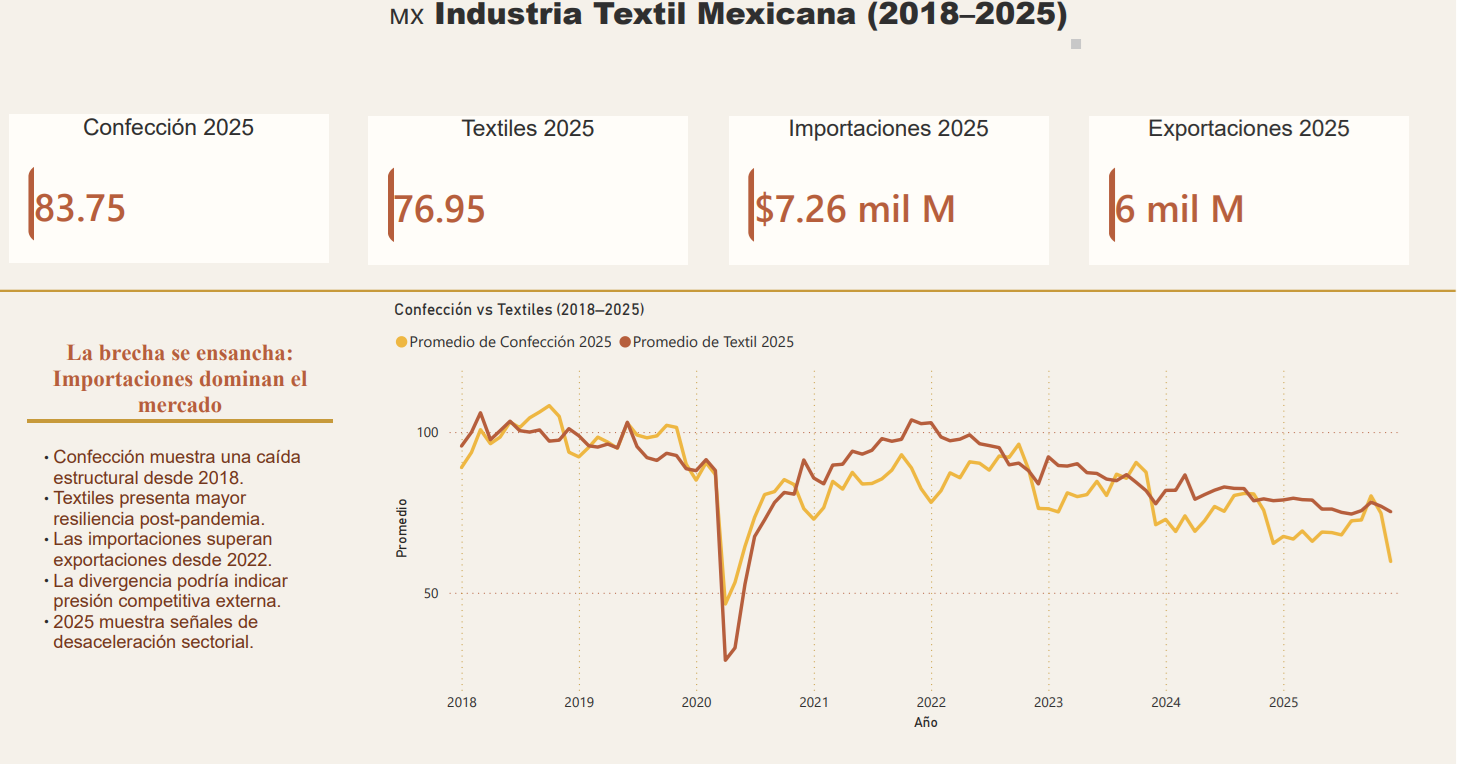

Layout of this report page (visuals, bound fields, positions):
{"tool":"powerbi","page":{"name":"Overview ejecutivo","canvas":[1280,720],"ordinal":2},"visuals":[{"type":"cardVisual","title":"Confección 2025","fields":{"Data":["Avg(Página 1.Confeccion_Indice)"]},"box":[12.2,146.7,280,130],"z":0},{"type":"cardVisual","title":"Textiles 2025","fields":{"Data":["Avg(Página 1 (2).Indice_Textiles)"]},"box":[327.4,147.7,280,130],"z":1000},{"type":"cardVisual","title":"Exportaciones 2025","fields":{"Data":["Sum(Tabla de Información por Prod.Exportaciones)"]},"box":[959.2,147.7,280,130],"z":2000},{"type":"cardVisual","title":"Importaciones 2025","fields":{"Data":["Sum(Tabla de Información por Prod (2).Importacion)"]},"box":[643.3,147.7,280,130],"z":3000},{"type":"textbox","title":"🇲🇽 Industria Textil Mexicana (2018–2025)","box":[328.9,37.9,627.3,56.3],"z":4000},{"type":"lineChart","title":"Confección vs Textiles (2018–2025)","fields":{"Y":["Avg(Página 1.Confección 2025)","Avg(Página 1 (2).Textil 2025)"],"Category":["Página 1.Año.Variación.Jerarquía de fechas.Año"]},"box":[344.8,309.6,896.3,382.7],"z":5000},{"type":"textbox","title":"La brecha se ensancha: Importaciones dominan el mercado","box":[28.1,343.6,267.8,348.5],"z":6000},{"type":"shape","box":[0,283.4,1280.3,36.3],"z":7000}]}

Visuals, with their boxes on the page's 1280x720 design canvas (x1, y1, x2, y2). These are canvas units, not pixel positions in the 1478x764 screenshot, which may show the page scaled, cropped or inside an application window:
"Confección 2025" cardVisual: Rect(12, 147, 292, 277)
"Textiles 2025" cardVisual: Rect(327, 148, 607, 278)
"Exportaciones 2025" cardVisual: Rect(959, 148, 1239, 278)
"Importaciones 2025" cardVisual: Rect(643, 148, 923, 278)
"🇲🇽 Industria Textil Mexicana (2018–2025)" textbox: Rect(329, 38, 956, 94)
"Confección vs Textiles (2018–2025)" lineChart: Rect(345, 310, 1241, 692)
"La brecha se ensancha: Importaciones dominan el mercado" textbox: Rect(28, 344, 296, 692)
shape: Rect(0, 283, 1280, 320)
